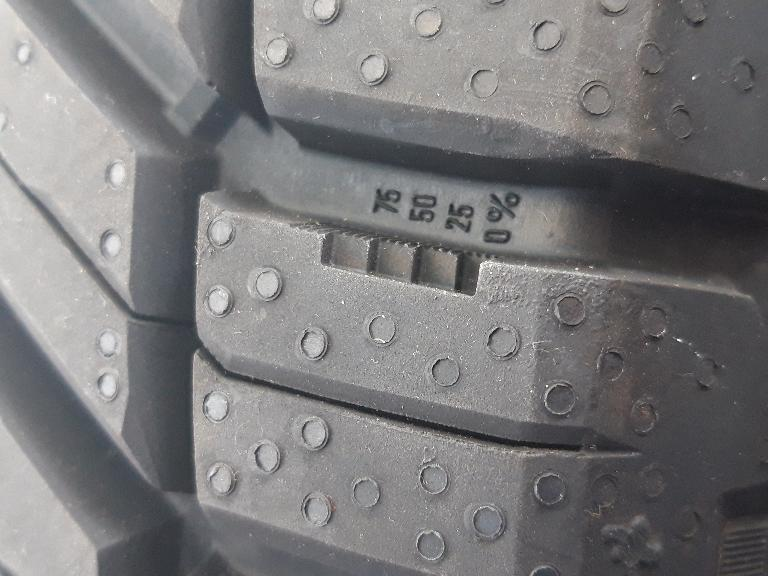temoin:100: (283, 214, 507, 307)
